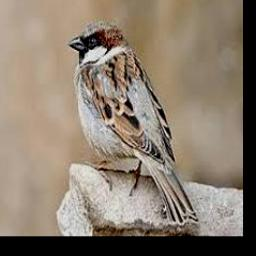Sparrow: (67, 20, 198, 225)
